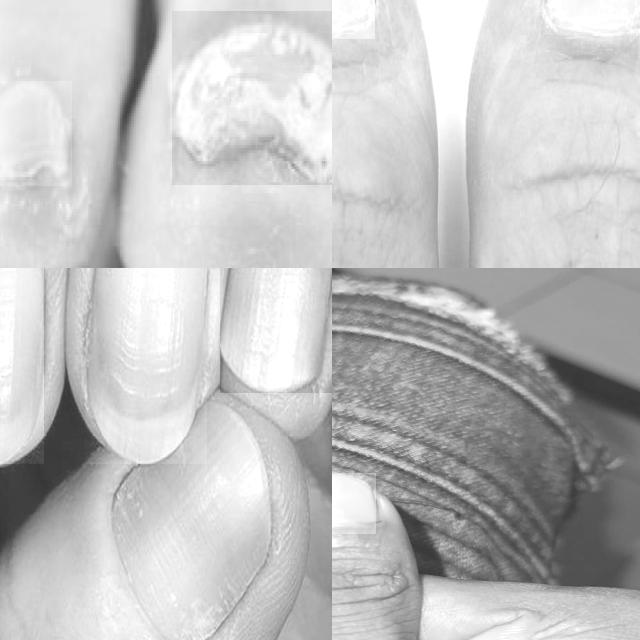diabetes: (111, 400, 271, 640), (173, 11, 332, 185), (85, 268, 207, 464), (221, 268, 332, 393), (0, 82, 72, 186)
sehat: (332, 475, 376, 526)
